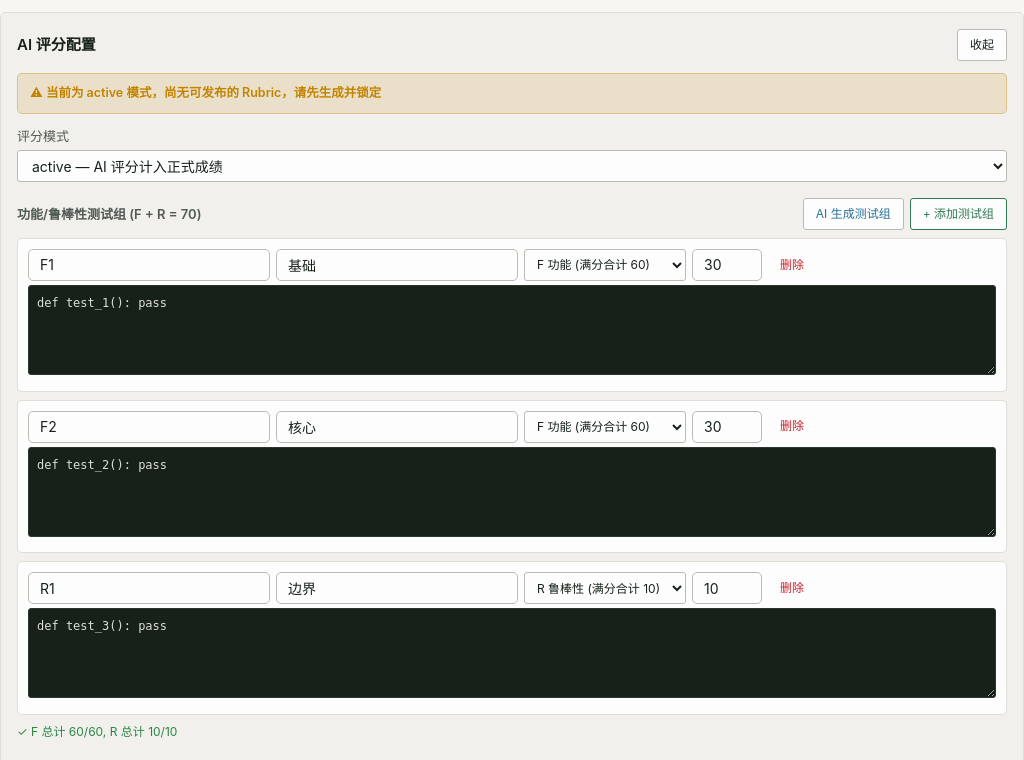
Test: AIQuestionConfig 真实挂载 › 后端拒绝重复测试组 ID 时显示真实接口错误
This screenshot has width=1024, height=760.
Replace the text in the 3rd field with "F1": (149, 427) [28,411,270,443]
(page scrolled)
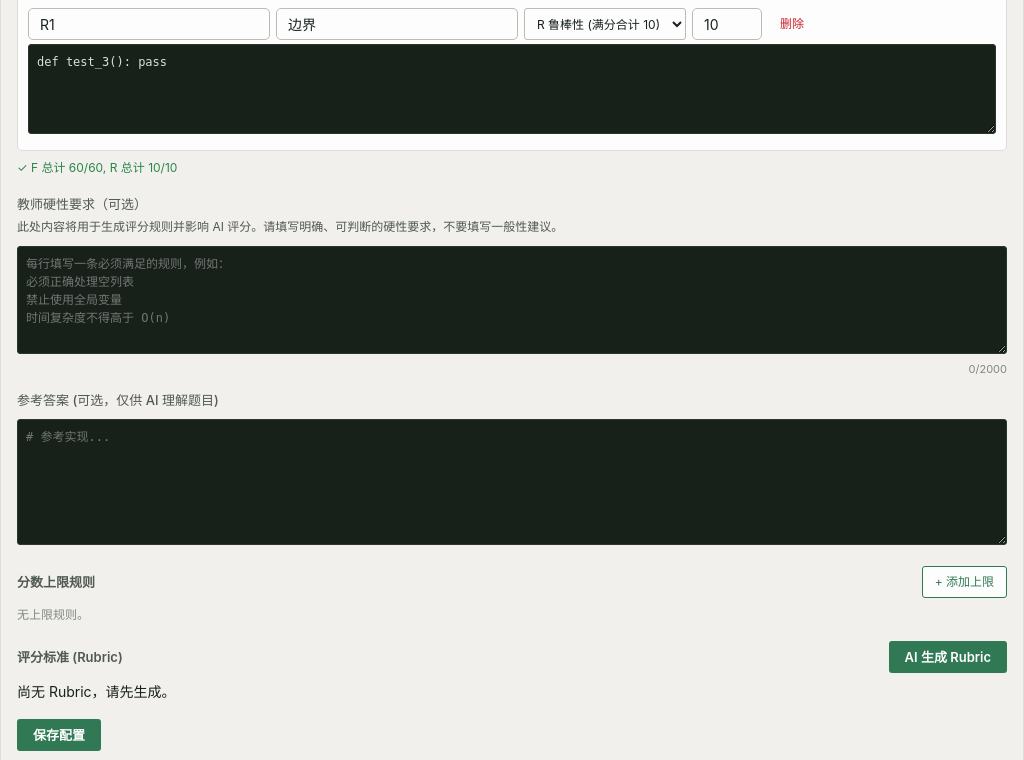
Click the button "保存配置": (59, 735) [17,718,101,751]
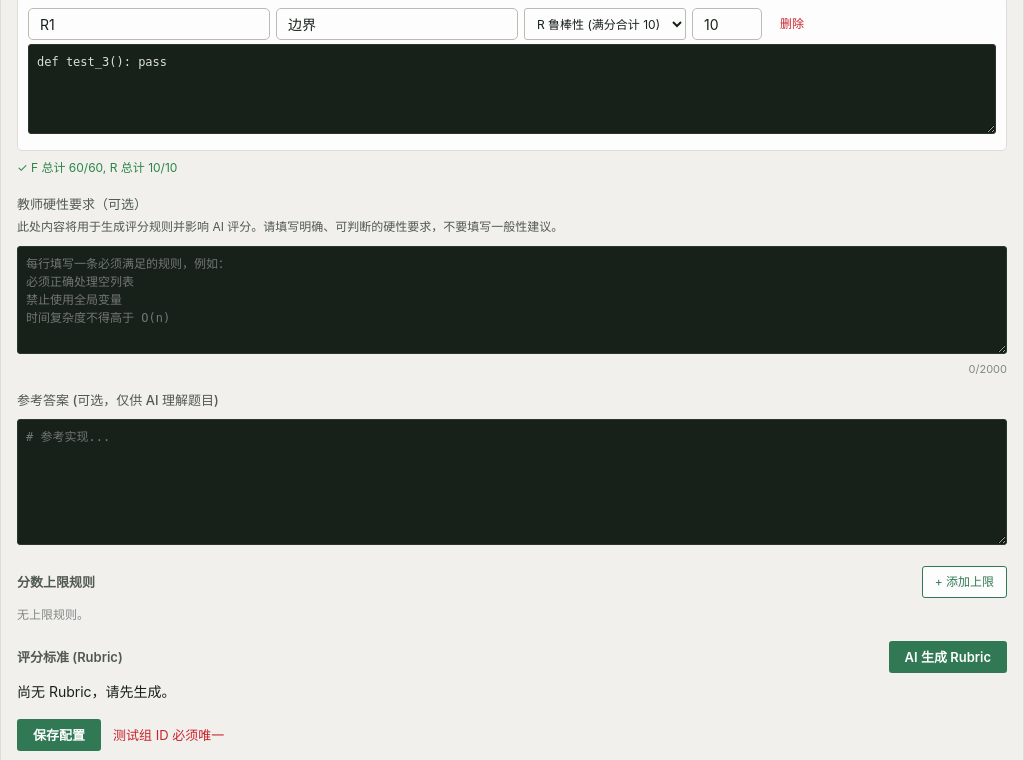
Expected: the text "测试组 ID 必须唯一" is shown, [113,724,224,745]
